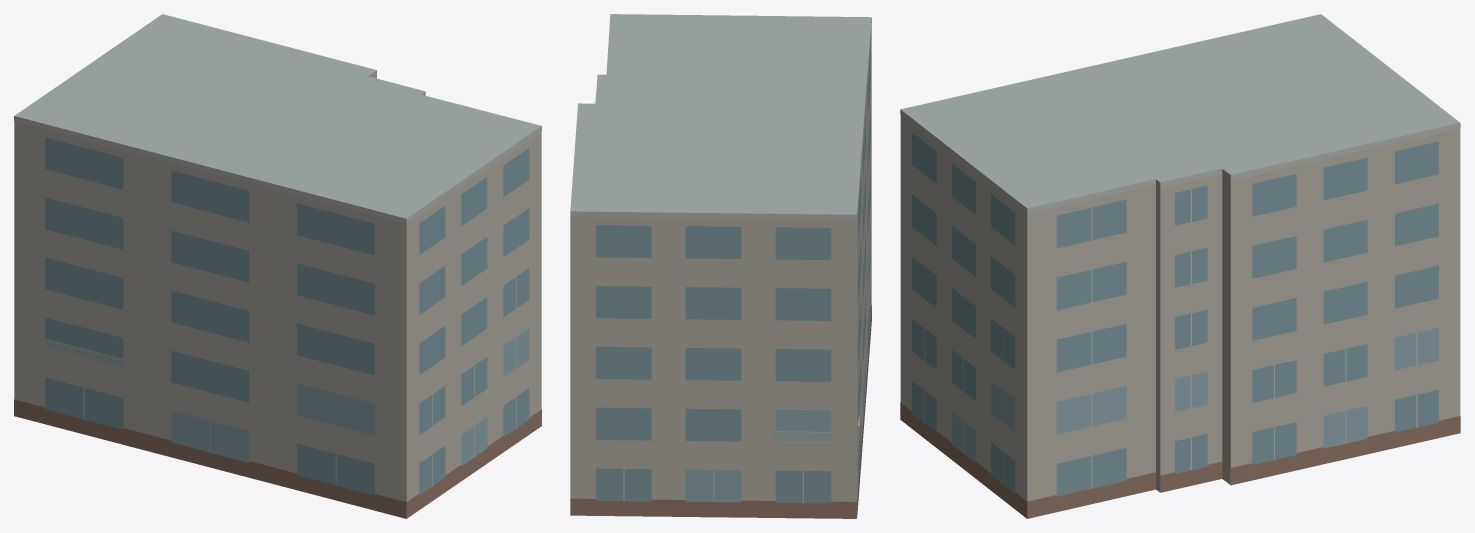
Rendered from survey-upis-32495350.glb.
The picture shows the model from 3 angles, left to right: view 1: azimuth 30°, elevation 25°; view 2: azimuth 150°, elevation 25°; view 3: azimuth 270°, elevation 25°; orthographic projection. The views are drawn at different scales.
Parts seen in each view (by area): view 1: survey-upis-32495350.tmp; view 2: survey-upis-32495350.tmp; view 3: survey-upis-32495350.tmp.
Part boxes in pixels (x1=…): survey-upis-32495350.tmp: x1=14, y1=14, x2=541, y2=518; survey-upis-32495350.tmp: x1=570, y1=14, x2=871, y2=518; survey-upis-32495350.tmp: x1=900, y1=14, x2=1460, y2=518.
Size of the model in its own units: 18.02 by 13.4 by 21.92.
